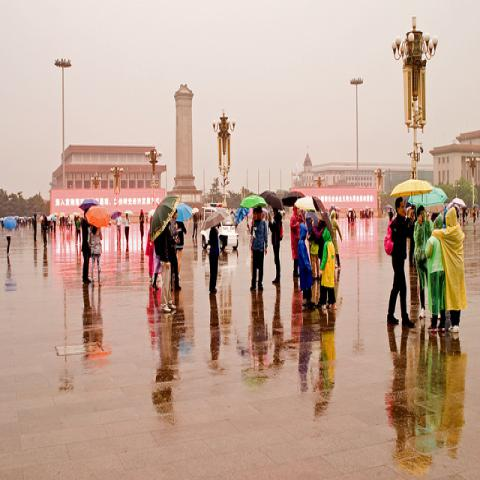car: (200, 206, 239, 252)
